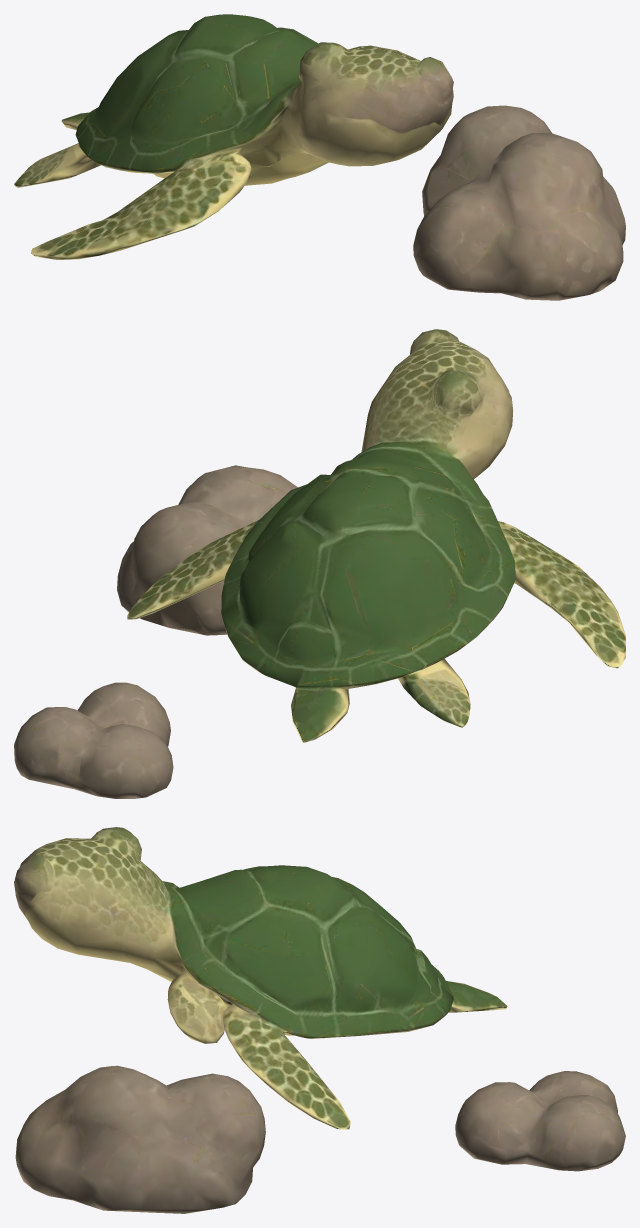
3 renders of one model, top to bottom at view 1: azimuth 30°, elevation 25°; view 2: azimuth 150°, elevation 25°; view 3: azimuth 270°, elevation 25°, orthographic. The views are drawn at different scales.
Size of the model in its own units: 1.79 by 0.8608 by 1.89.
Materials: 1 (1 with a texture image).
